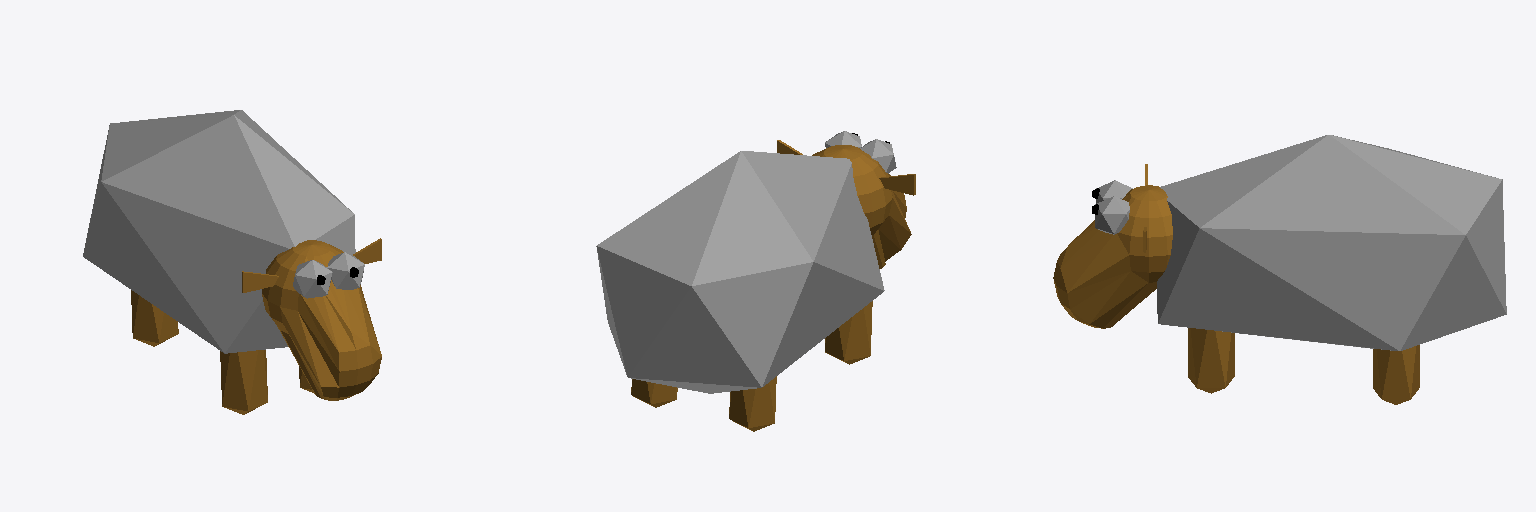
The picture shows the model from 3 angles: view 1: azimuth 30°, elevation 25°; view 2: azimuth 150°, elevation 25°; view 3: azimuth 270°, elevation 25°; orthographic projection.
Parts seen in each view (by area): view 1: Icosphere, Sphere, Icosphere.004_Icosphere.005, Icosphere.003_Icosphere.004, Icosphere.001_Icosphere.002, Icosphere.002_Icosphere.003, Cube.002_Cube.003; view 2: Icosphere, Sphere, Icosphere.004_Icosphere.005, Icosphere.003_Icosphere.004, Icosphere.002_Icosphere.003, Icosphere.001_Icosphere.002, Cube.002_Cube.003; view 3: Icosphere, Sphere, Icosphere.002_Icosphere.003, Icosphere.001_Icosphere.002.
Boxes of the visible parts, box(x1,y1,x2,y2) form: Icosphere: box(83, 110, 355, 353); Sphere: box(262, 240, 381, 400); Icosphere.004_Icosphere.005: box(220, 350, 267, 414); Icosphere.003_Icosphere.004: box(131, 290, 178, 346); Icosphere.001_Icosphere.002: box(293, 260, 332, 393); Icosphere.002_Icosphere.003: box(327, 252, 364, 289); Cube.002_Cube.003: box(242, 271, 278, 292); Icosphere: box(596, 151, 884, 393); Sphere: box(812, 145, 911, 268); Icosphere.004_Icosphere.005: box(825, 301, 872, 364); Icosphere.003_Icosphere.004: box(729, 376, 776, 431); Icosphere.002_Icosphere.003: box(631, 131, 861, 407); Icosphere.001_Icosphere.002: box(860, 139, 896, 173); Cube.002_Cube.003: box(879, 174, 915, 195); Icosphere: box(1157, 135, 1506, 350); Sphere: box(1053, 185, 1172, 328); Icosphere.002_Icosphere.003: box(1095, 196, 1419, 404); Icosphere.001_Icosphere.002: box(1096, 180, 1234, 393).
Size of the model in its own units: 2.2 by 2.58 by 4.32.
Materials: 4 (2 with a texture image).